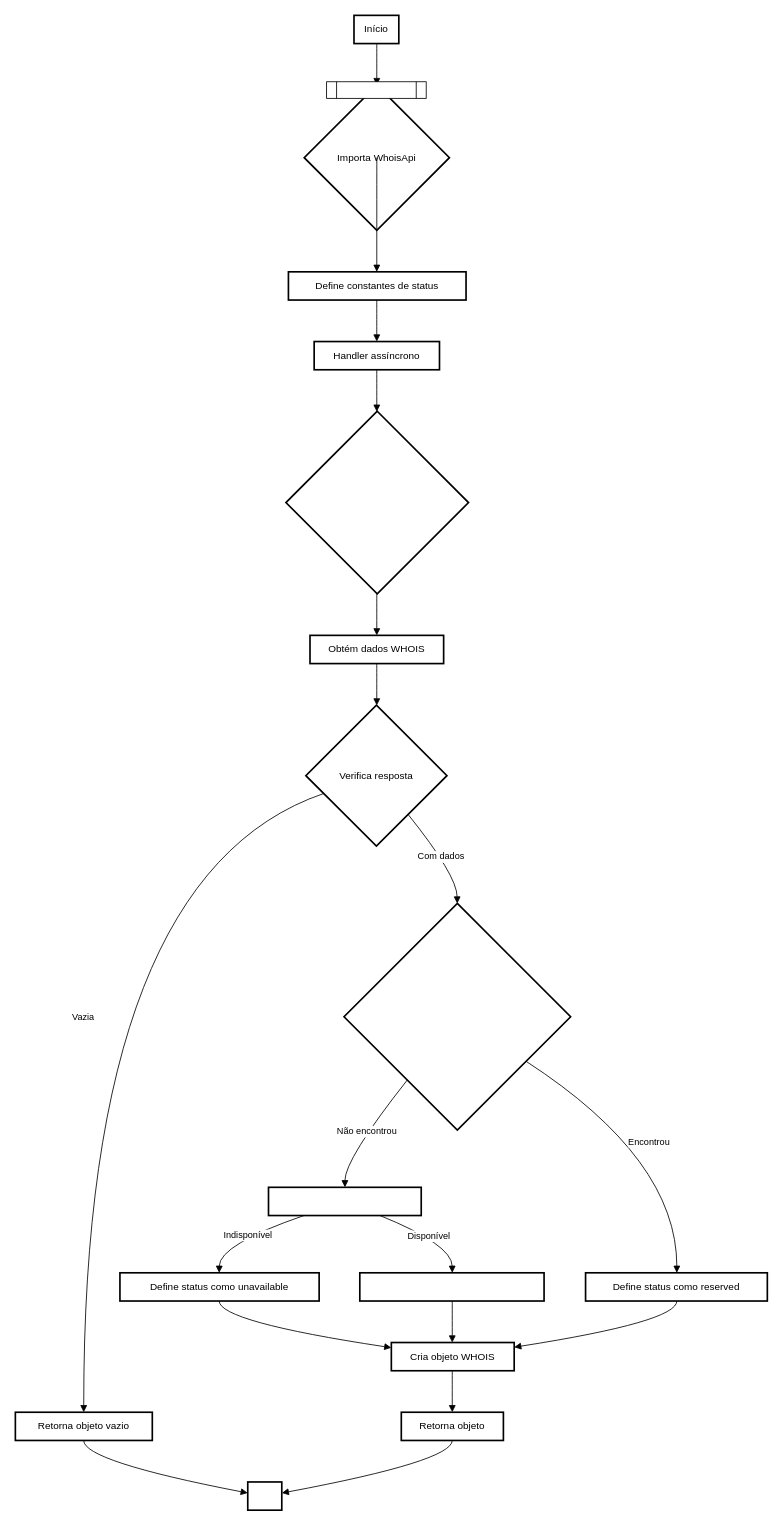
Some shapes in this 782 by 1525 pixel diagram are drawn without their labels. The shapes that lost their labels are listed below. From the top down, each one's centre as x and y in pixels, then its label:
At (377,502): "Obtém dados de evento".
At (457,1016): "Procura empresas proprietárias".
At (344,1201): "Verifica disponibilidade".
At (451,1286): "Define status como available".
At (264,1496): "Fim".
